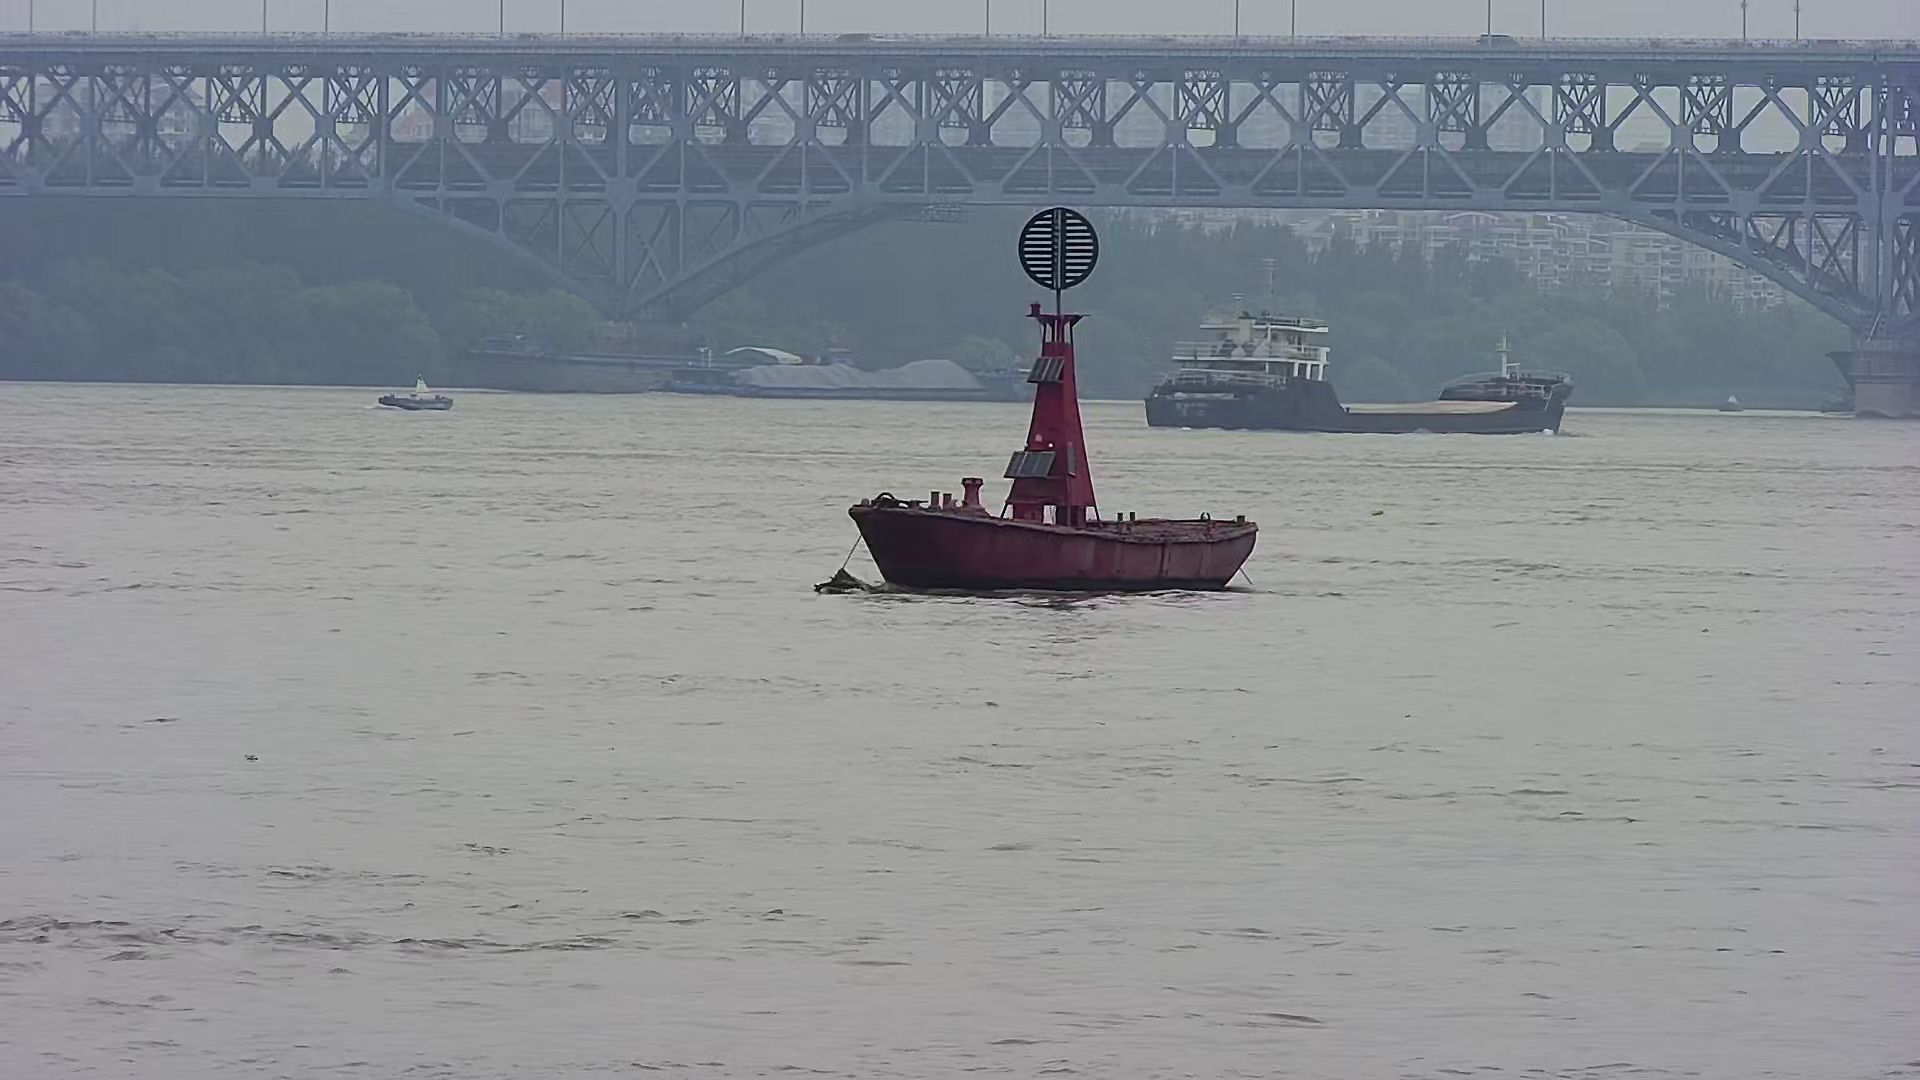boat: (808, 198, 1288, 612), (367, 360, 465, 421), (1709, 377, 1756, 419)
bridge: (1, 24, 1916, 422)
ship: (1135, 294, 1588, 458), (659, 345, 1051, 404)
